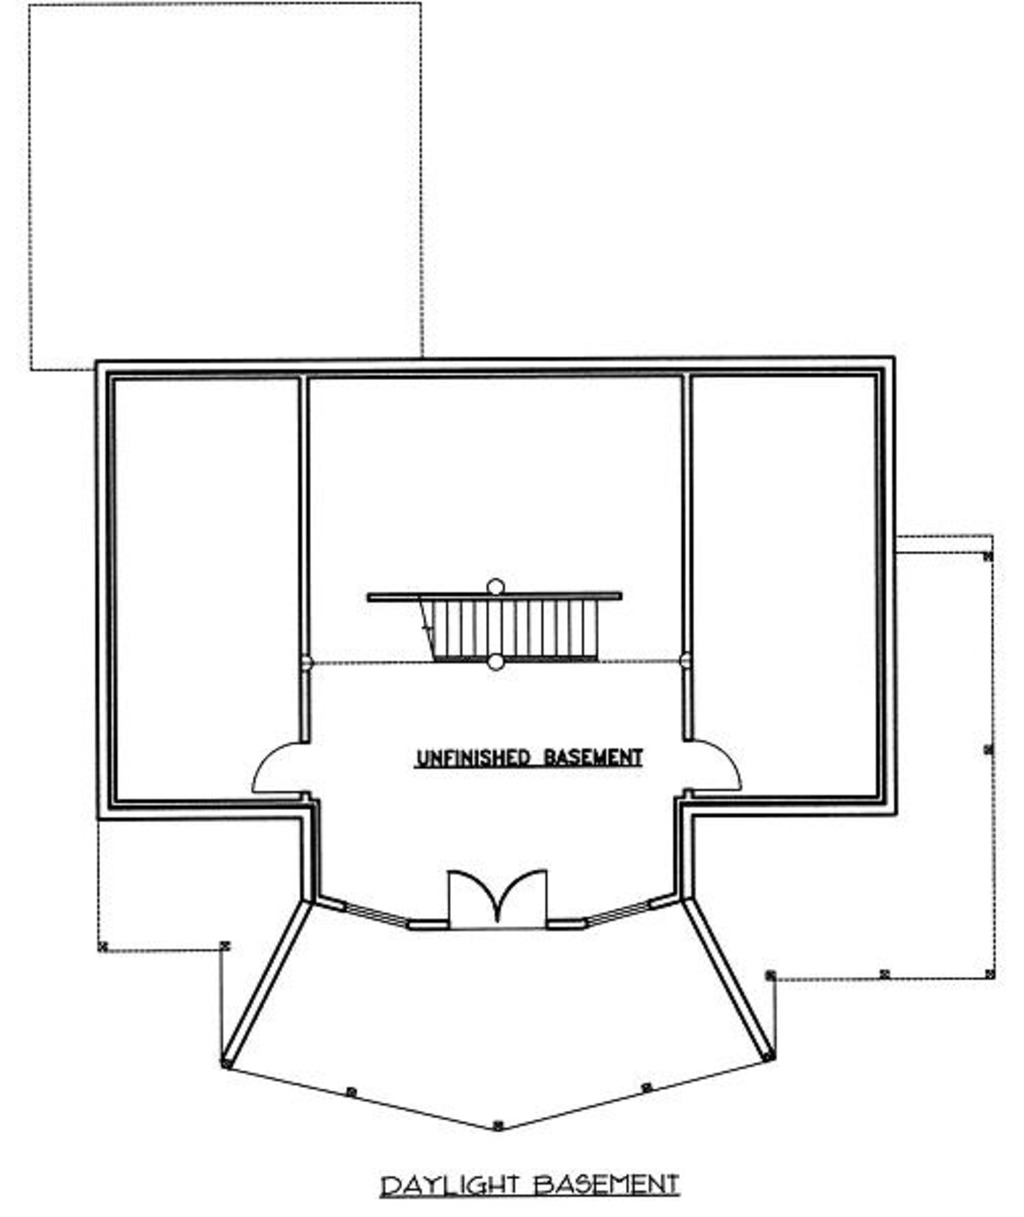door: (236, 726, 329, 807), (449, 864, 549, 937), (674, 728, 746, 794)
stairs: (366, 577, 632, 672)
